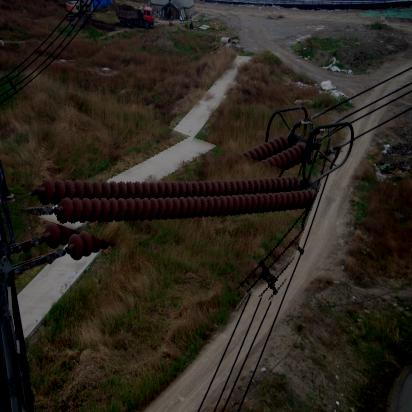insulator: (30, 114, 316, 285)
